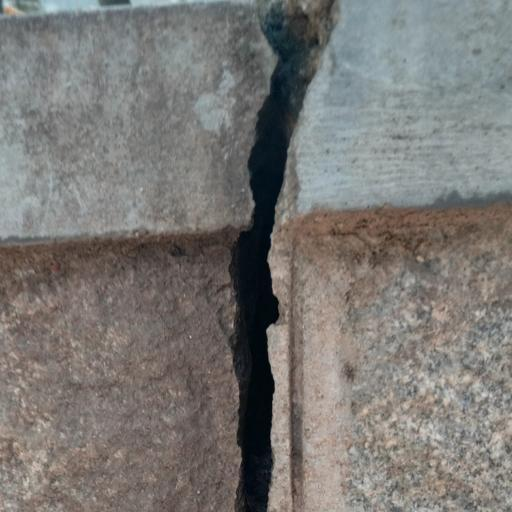major_crack: (218, 0, 346, 512)
